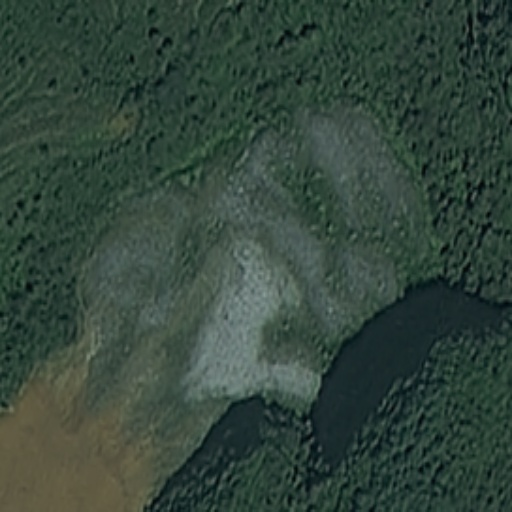landslide: (76, 109, 419, 389)
